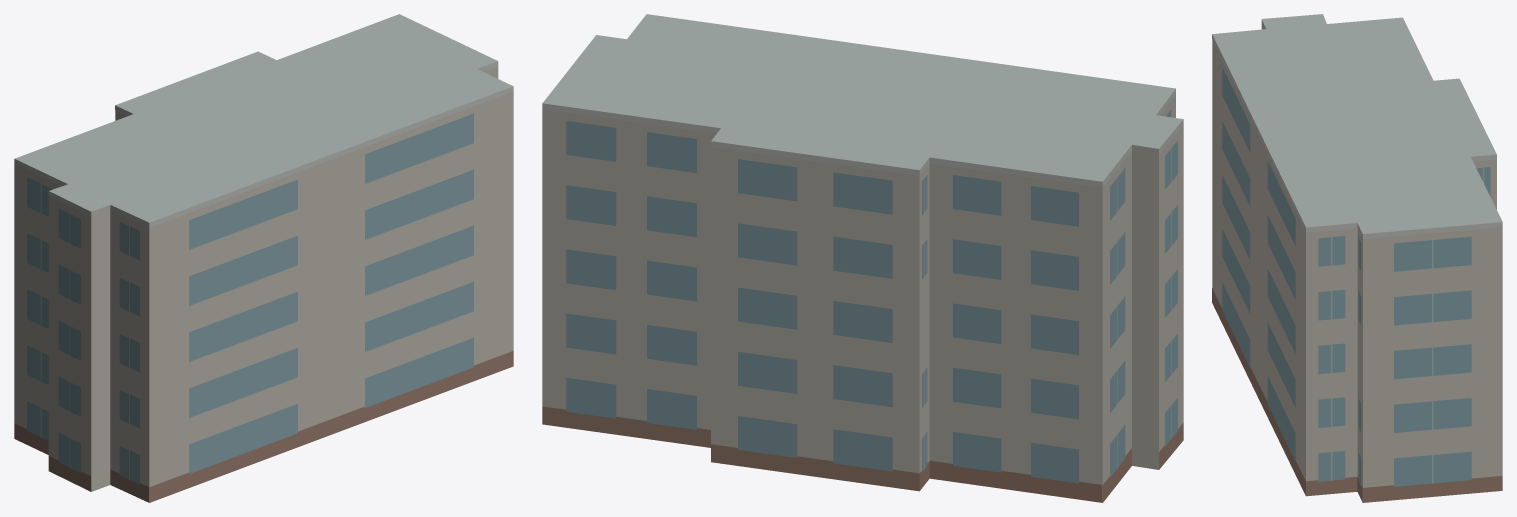
Rendered from survey-upis-32706733.glb.
3 views of the same model, side by side, from view 1: azimuth 30°, elevation 25°; view 2: azimuth 150°, elevation 25°; view 3: azimuth 270°, elevation 25° (orthographic). The views are drawn at different scales.
Visible parts, largest first — view 1: survey-upis-32706733.tmp; view 2: survey-upis-32706733.tmp; view 3: survey-upis-32706733.tmp.
Boxes of the visible parts, left/top/right/bottom form: survey-upis-32706733.tmp: left=14, top=14, right=513, bottom=502; survey-upis-32706733.tmp: left=542, top=14, right=1183, bottom=502; survey-upis-32706733.tmp: left=1212, top=14, right=1502, bottom=502.
Size of the model in its own units: 23.55 by 13.4 by 13.14.
